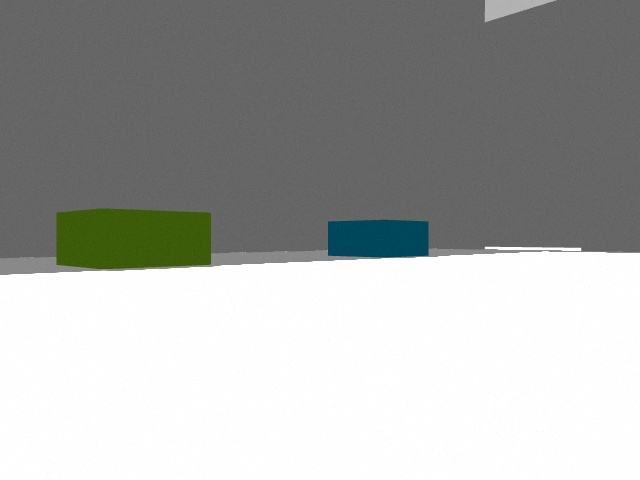blue_drop_zone: (328, 220, 429, 258)
green_drop_zone: (56, 208, 211, 269)
